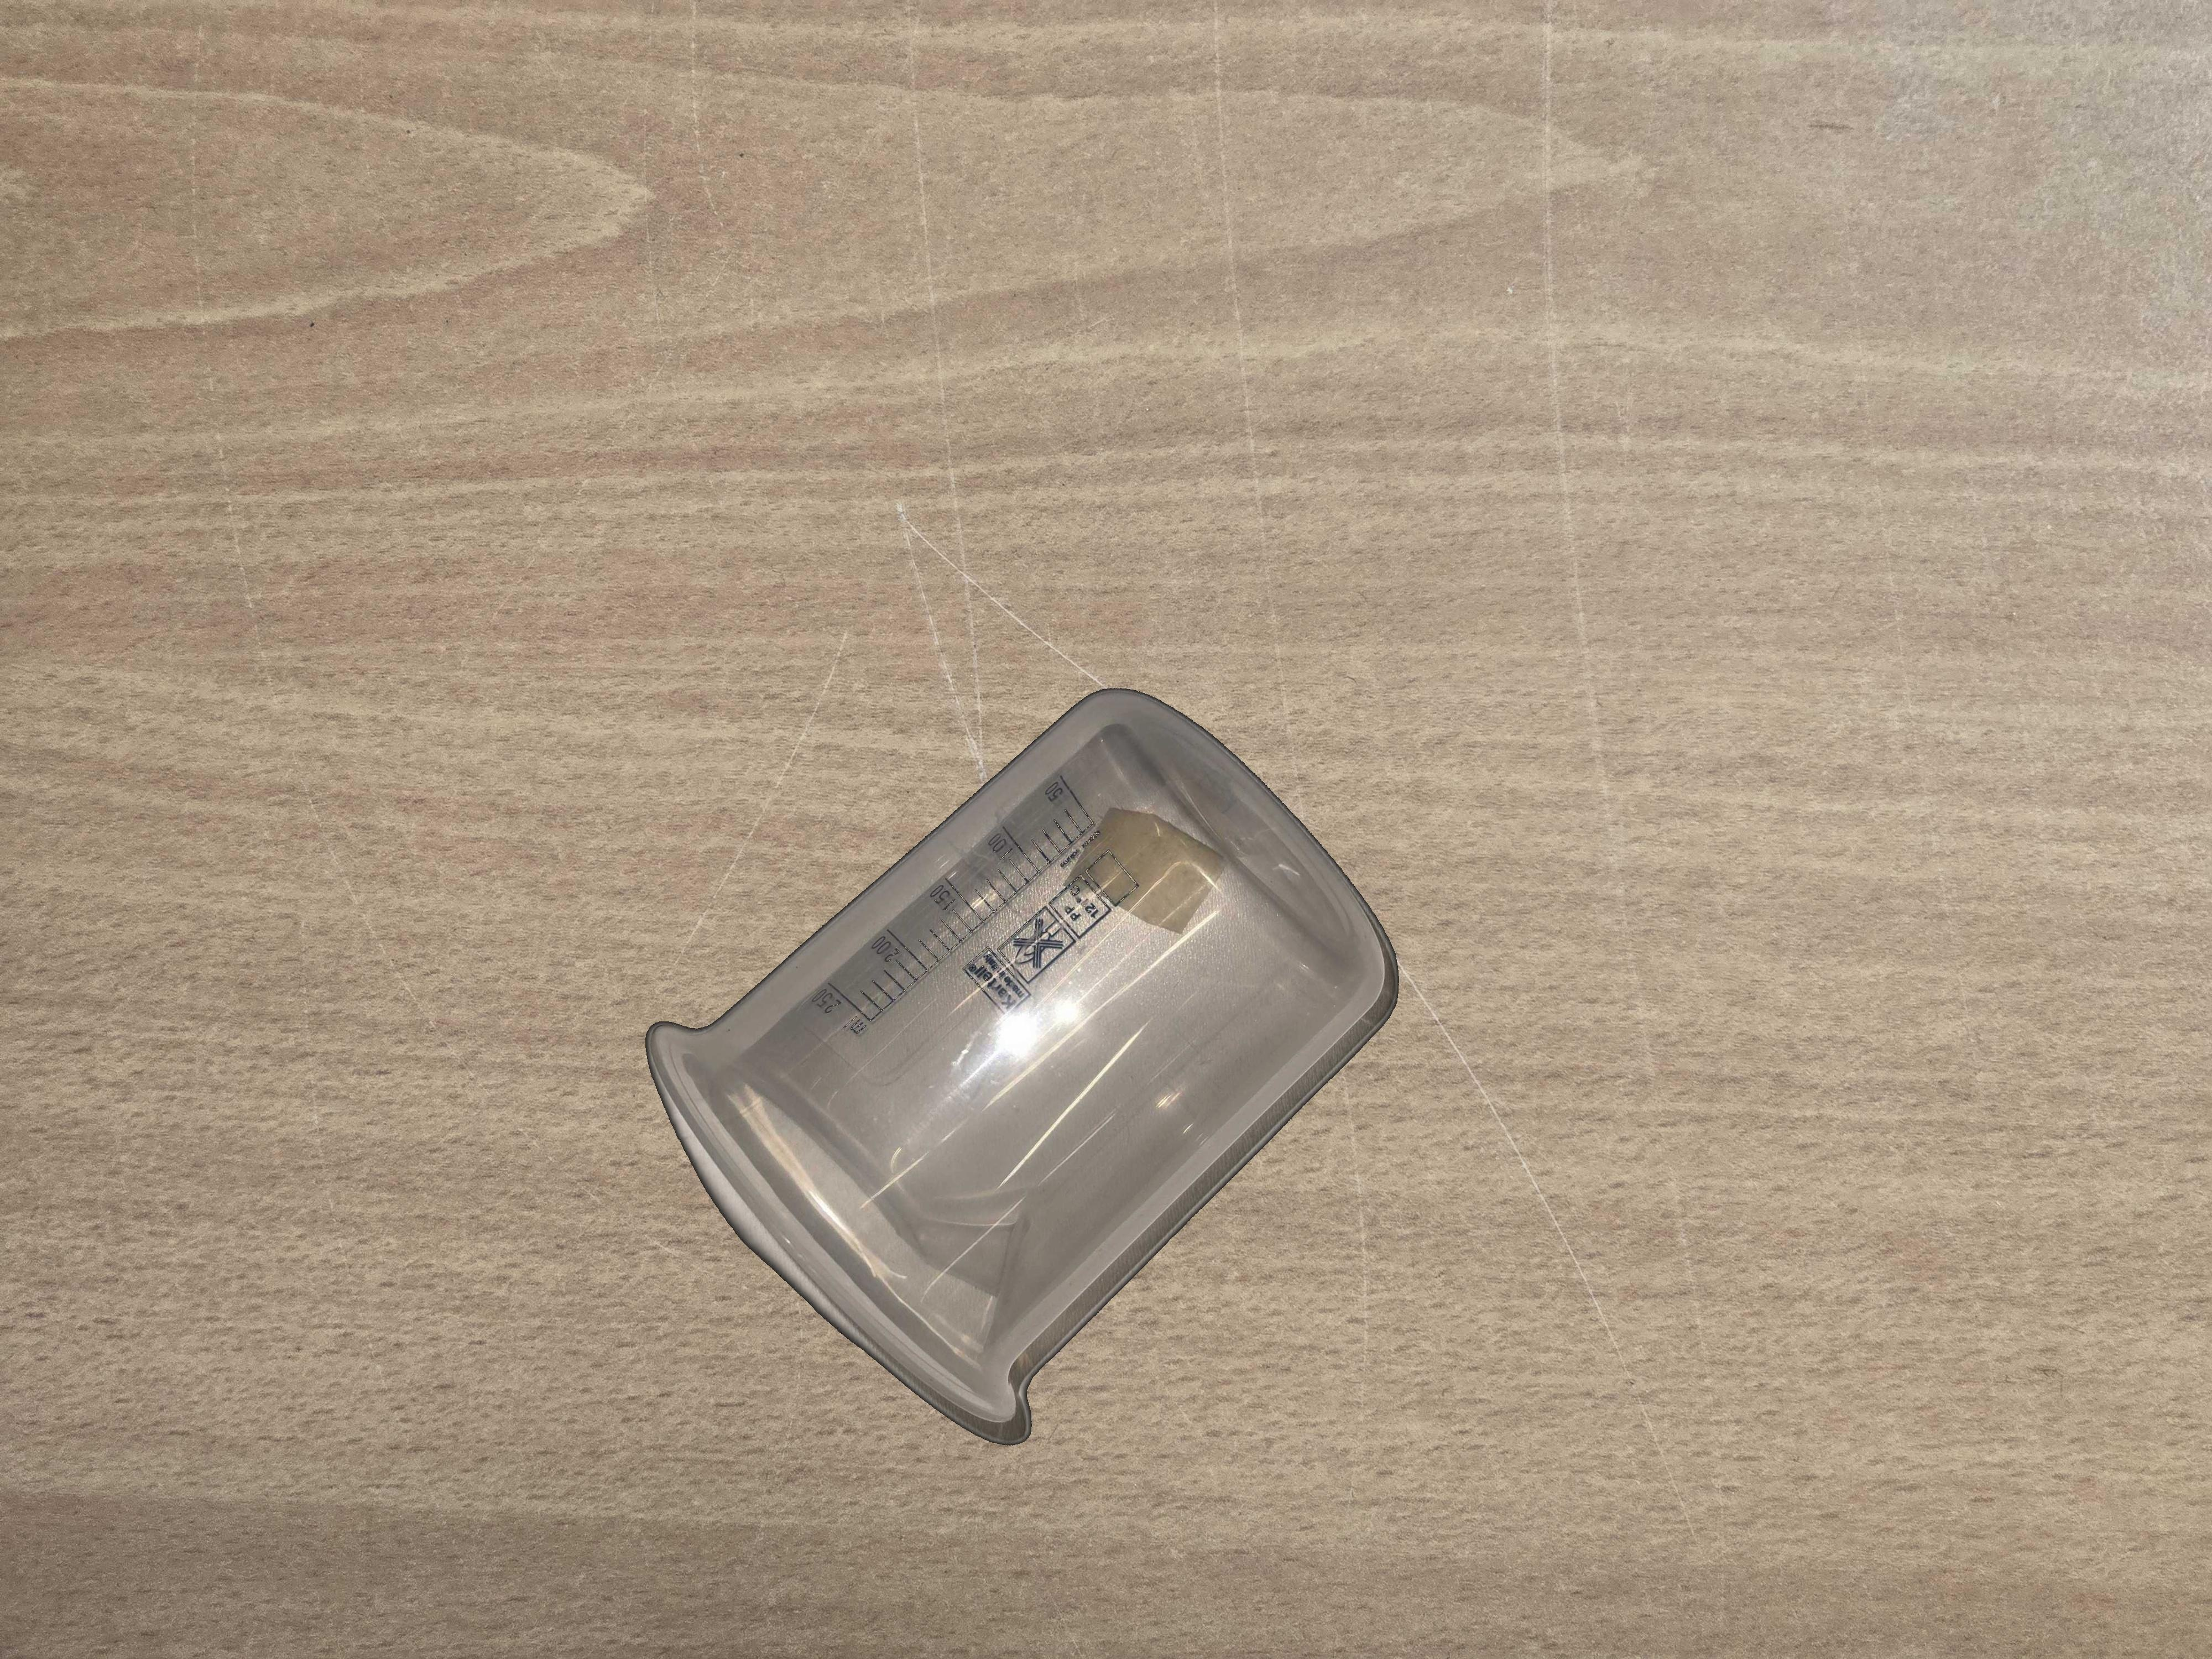becker: (643, 681, 1406, 1448)
